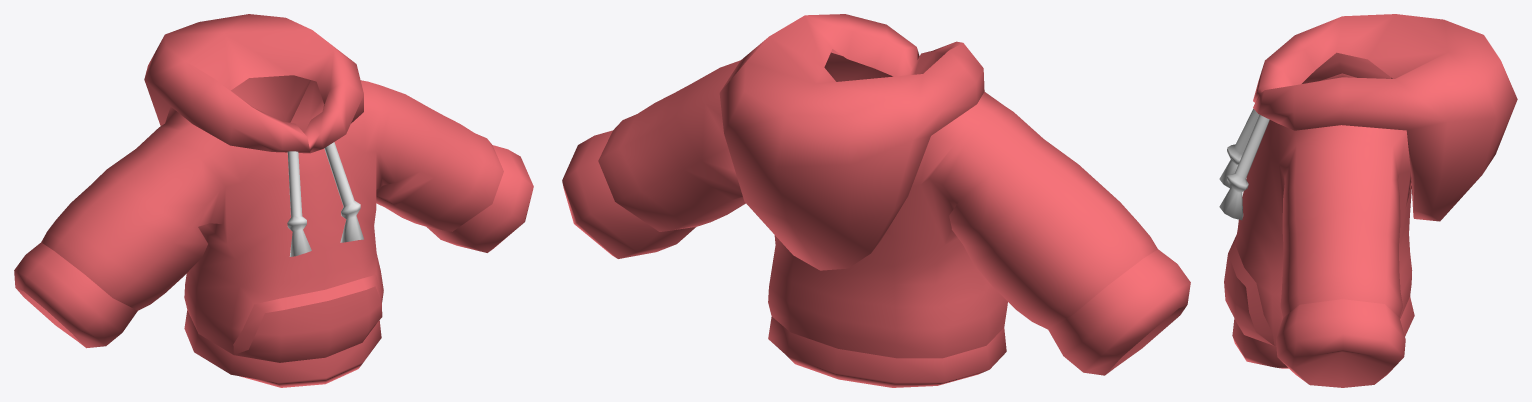
The picture shows the model from 3 angles, left to right: view 1: azimuth 30°, elevation 25°; view 2: azimuth 150°, elevation 25°; view 3: azimuth 270°, elevation 25°; orthographic projection. The views are drawn at different scales.
Parts seen in each view (by area): view 1: Top_64; view 2: Top_64; view 3: Top_64.
Boxes of the visible parts, left/top/right/bottom form: Top_64: left=14, top=14, right=533, bottom=387; Top_64: left=562, top=14, right=1190, bottom=387; Top_64: left=1219, top=14, right=1517, bottom=387.
Size of the model in its own units: 91.47 by 49.4 by 45.
